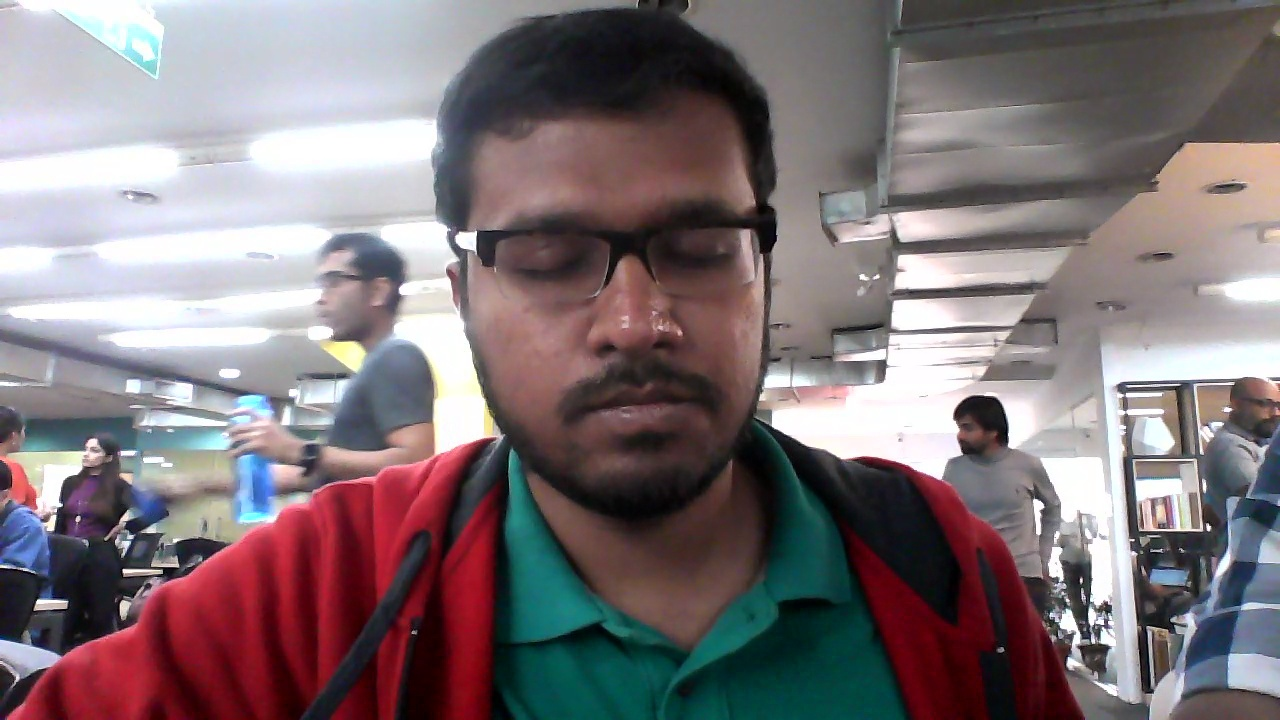closed: (432, 3, 787, 521)
